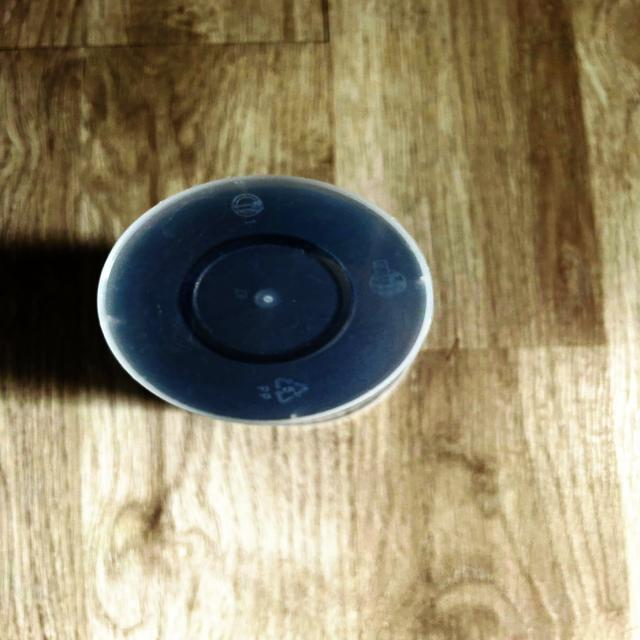Plastic Cup: (97, 177, 433, 423)
